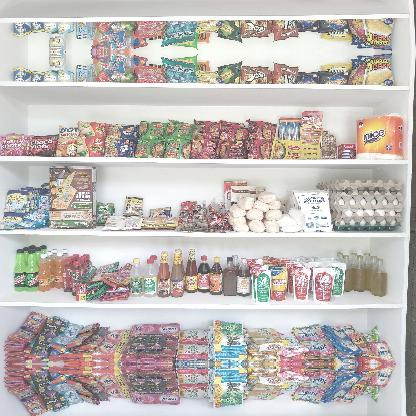Koko-Krunch: (47, 164, 97, 230)
